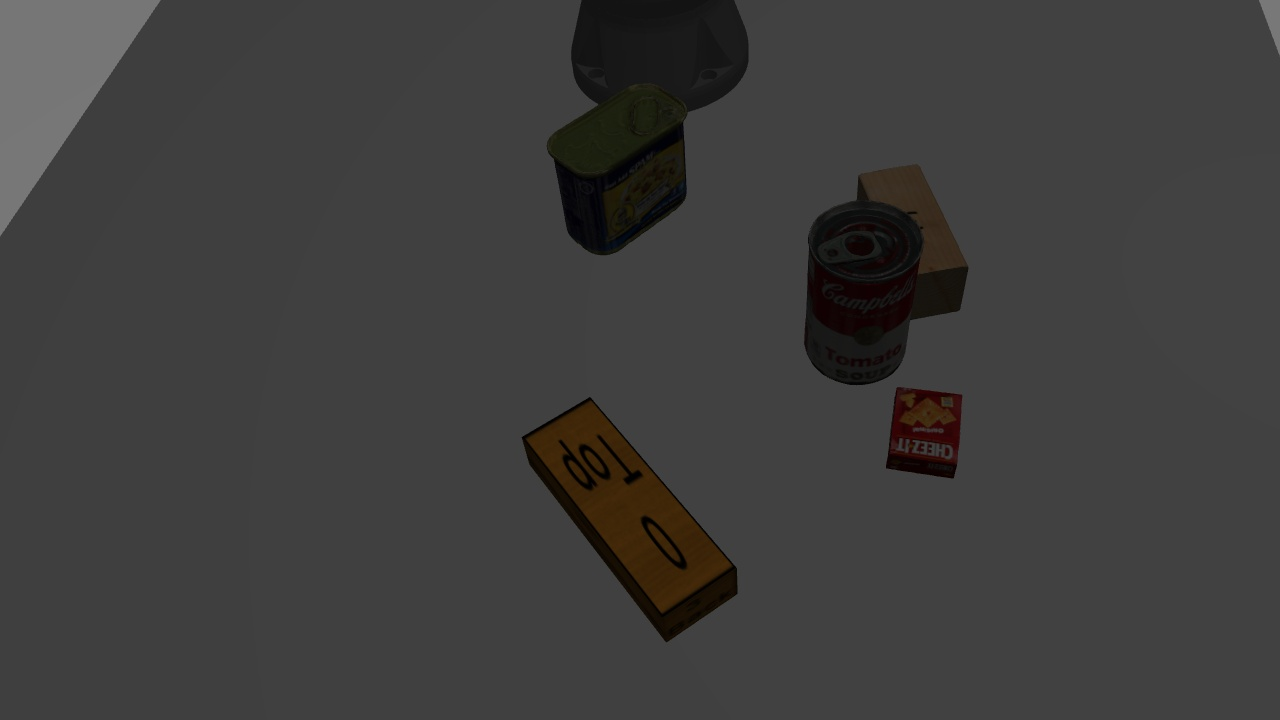cracker_box: (881, 380, 971, 486)
jenga: (520, 390, 746, 642)
potted_meat_can: (536, 80, 696, 260)
tomato_soup_can: (795, 193, 918, 386)
wood_block: (847, 161, 974, 321)
